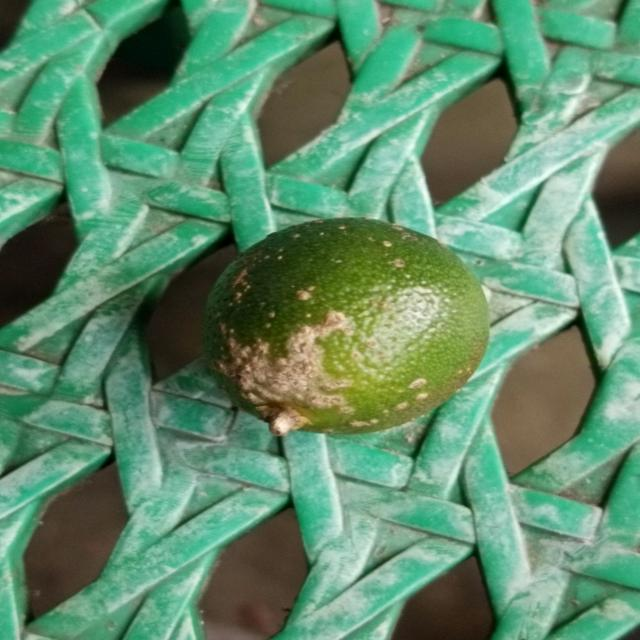scab: (203, 216, 490, 437)
